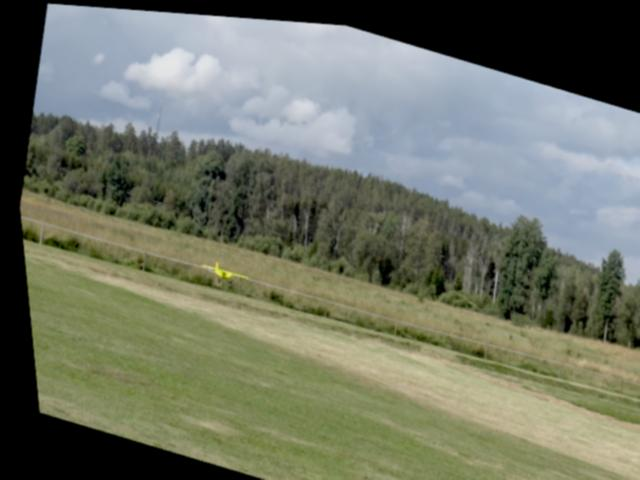plane: (191, 252, 246, 290)
